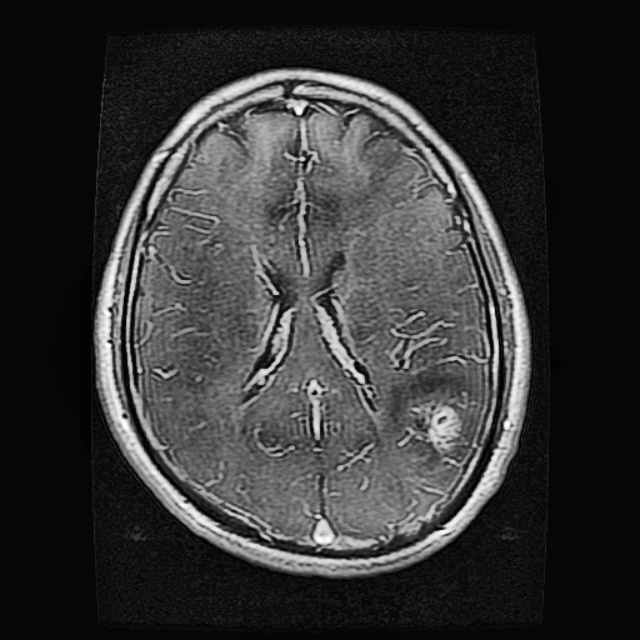Glioma: (409, 397, 468, 450)
